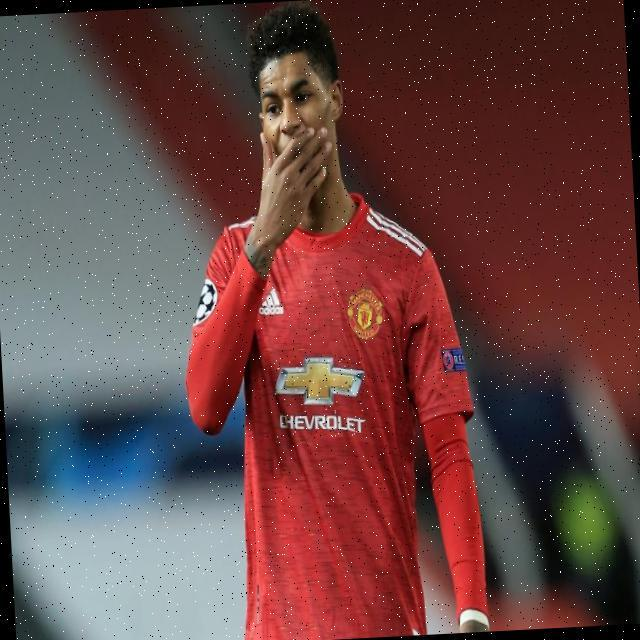Adidas: (259, 286, 287, 318)
Chevrolet: (273, 351, 368, 439)
